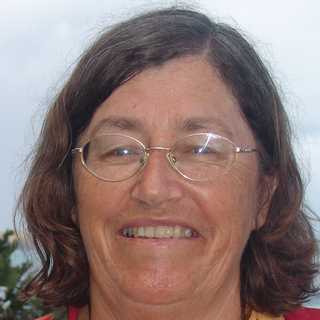eye: (103, 141, 148, 164)
